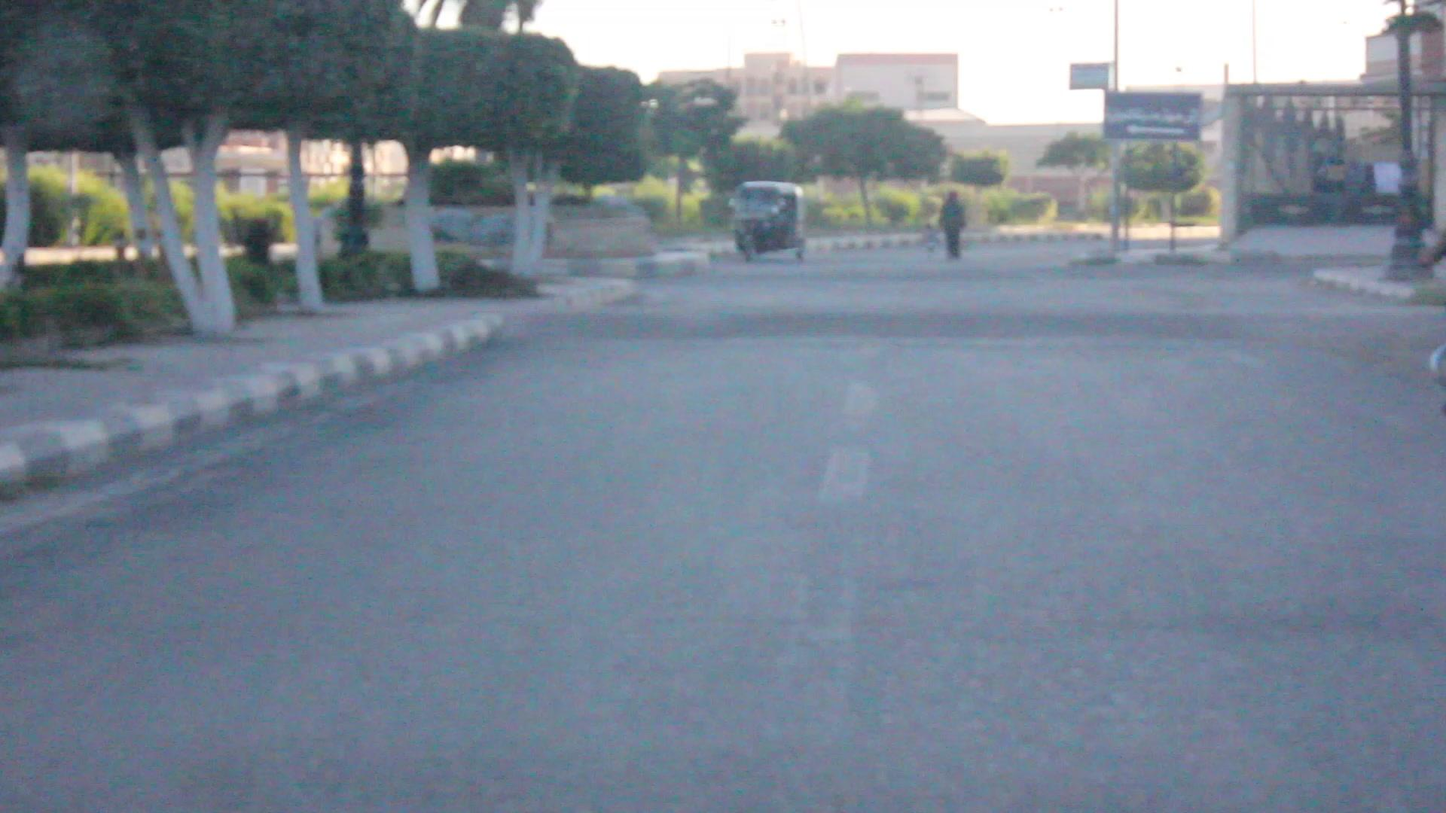Bump: (546, 311, 1446, 350)
